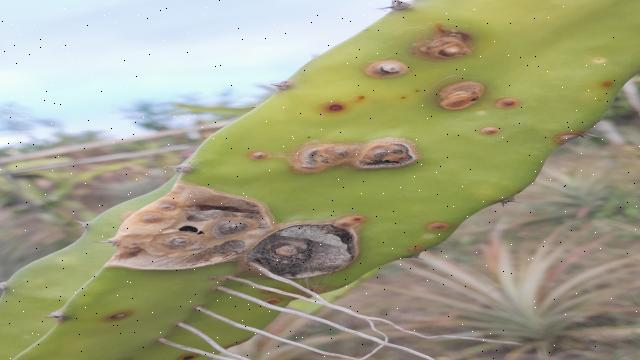stemcanker: (248, 18, 615, 193)
